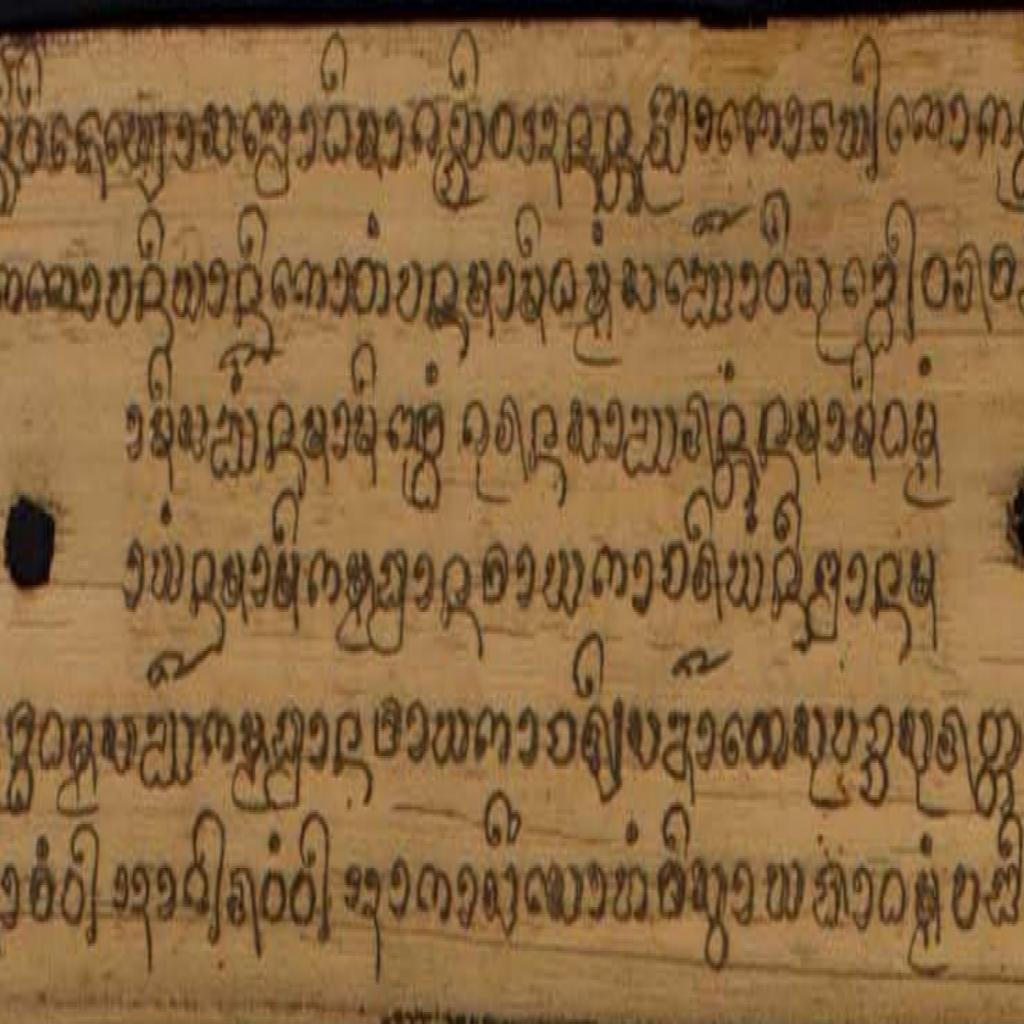LN001: (590, 538, 631, 607)
LN032: (724, 540, 768, 622)
